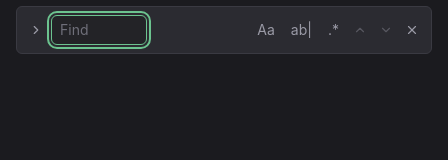
Test: FindBar (F-3.10) › applies the toggles and reports an invalid pattern
In the field labelled "Find": {"x": 99, "y": 30} left=51, top=15, right=147, bottom=45, type "cat"
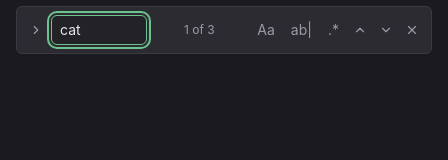
Now the message with test id "find-status" reads "1 of 3", box left=184, top=22, right=215, bottom=37
Click the button with aria-label "Match case": {"x": 266, "y": 30} left=251, top=18, right=281, bottom=42
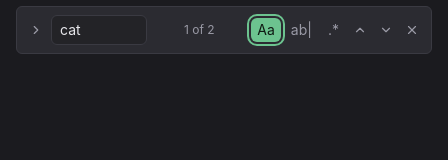
Now the message with test id "find-status" shows "of 2", box left=184, top=22, right=215, bottom=37
Click the button with aria-label "Whole word": {"x": 301, "y": 30} left=285, top=18, right=318, bottom=42
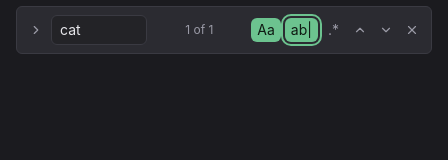
Now the message with test id "find-status" reads "1 of 1", box left=185, top=22, right=214, bottom=37
Click the button named "Regular expression": {"x": 334, "y": 30} left=322, top=18, right=345, bottom=42
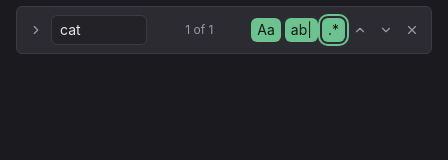
In the field named "Find": {"x": 99, "y": 30} left=51, top=15, right=147, bottom=45, type "("
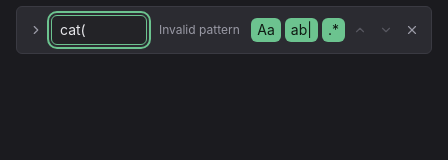
Now the message with test id "find-status" reads "Invalid pattern", box left=159, top=22, right=240, bottom=37
